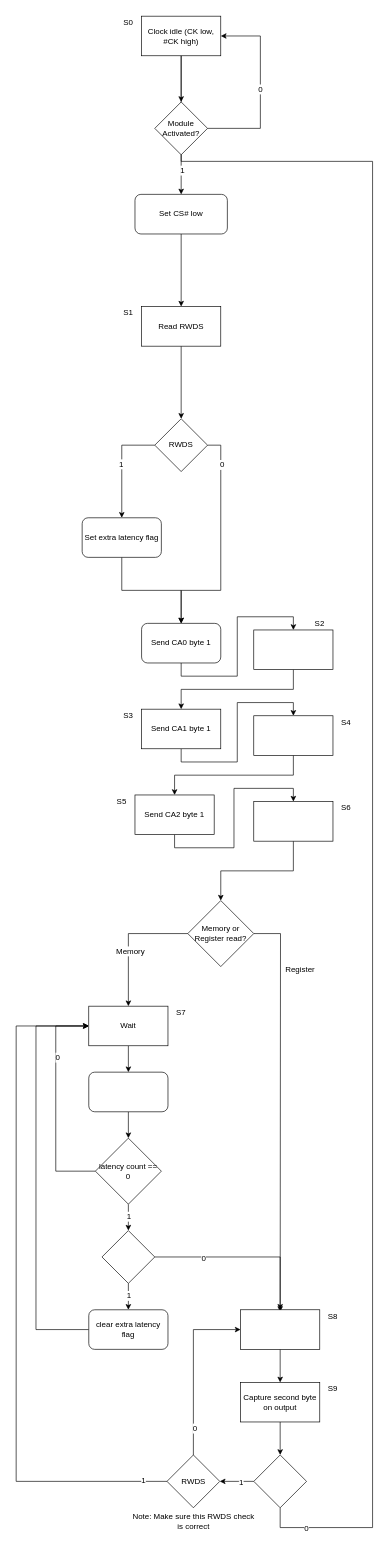
Some shapes in this 389 by 1552 pixel diagram are drawn without their labels. Here are the shapes that lost their labels. From the top down, the centre of each, then its label:
pixel 293 649: Send CA0 byte 2
pixel 293 735: Send CA1 byte 2
pixel 293 821: Send CA2 byte 2
pixel 128 1092: Decrement latency count
pixel 128 1256: Extra latency flag set?
pixel 280 1329: Capture first byte on output
pixel 280 1481: More data?
